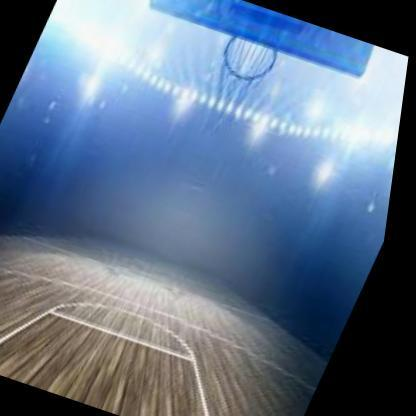rim: (214, 31, 286, 89)
